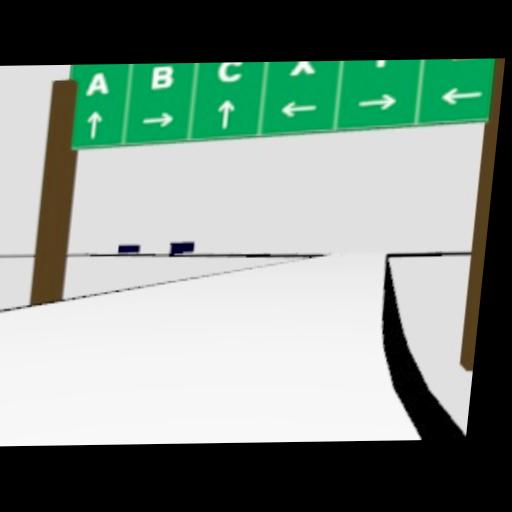A: (85, 70, 110, 95)
B: (150, 64, 174, 89)
C: (216, 61, 244, 80)
Left: (437, 85, 484, 103), (280, 98, 319, 115)
Right: (357, 91, 397, 109), (141, 111, 174, 126)
Straight: (215, 98, 235, 127), (84, 110, 102, 137)
X: (287, 60, 316, 75)
Y: (365, 59, 395, 66)
